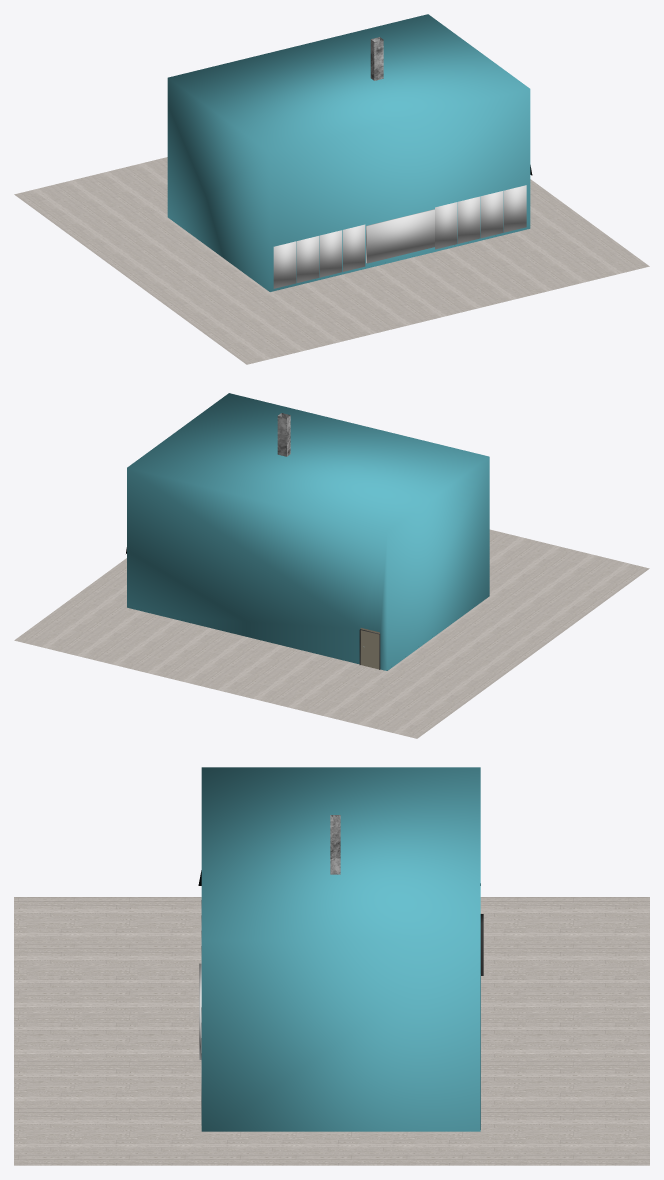
Rendered from KOM2.fbx.
3 renders of one model, top to bottom at view 1: azimuth 30°, elevation 25°; view 2: azimuth 150°, elevation 25°; view 3: azimuth 270°, elevation 25°, orthographic. The views are drawn at different scales.
Visible parts, largest first — view 1: Plane.005, Plane.006, Plane.004; view 2: Plane.005, Plane.006, Plane.004; view 3: Plane.006, Plane.005, Plane.004.
Boxes of the visible parts, x1=… form: Plane.005: x1=167, y1=14, x2=532, y2=291; Plane.006: x1=14, y1=157, x2=649, y2=364; Plane.004: x1=370, y1=37, x2=383, y2=80; Plane.005: x1=126, y1=393, x2=489, y2=670; Plane.006: x1=14, y1=529, x2=649, y2=738; Plane.004: x1=277, y1=413, x2=290, y2=456; Plane.006: x1=14, y1=897, x2=649, y2=1165; Plane.005: x1=198, y1=767, x2=483, y2=1131; Plane.004: x1=330, y1=815, x2=340, y2=874.
Bounding box in the file's own units: 4429 × 1948 × 4429.
